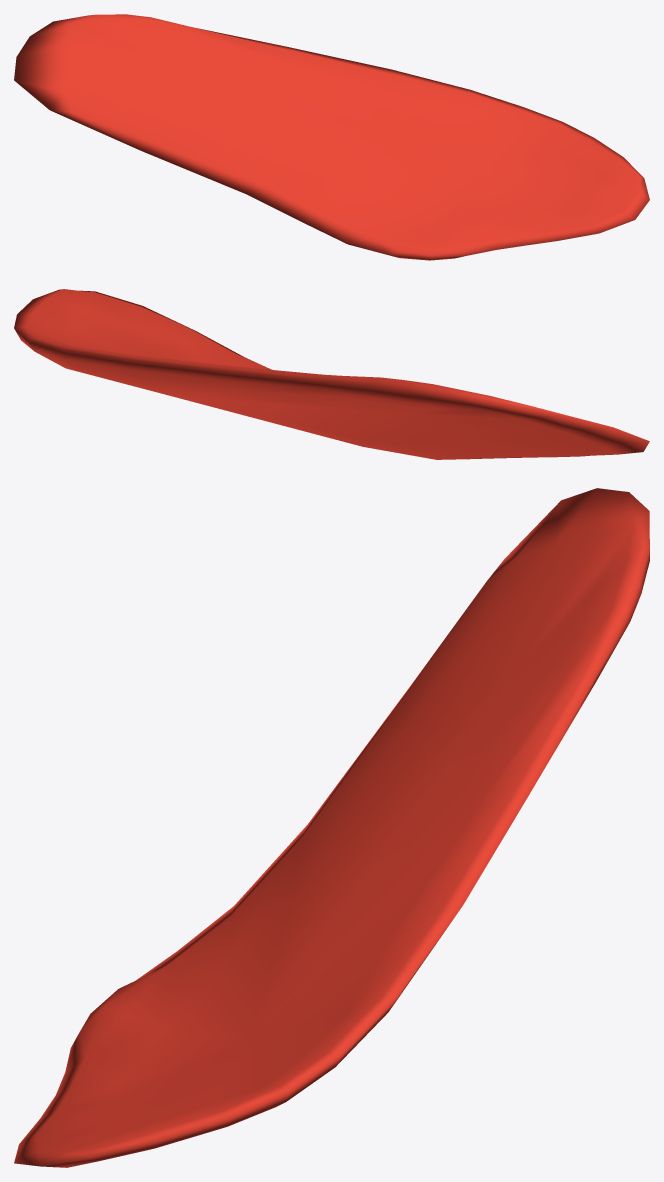
The model's file is Rectus_posterior_minor_capitis_muscle-Occipital_insertion.l_Gen.glb.
3 renders of one model, top to bottom at view 1: azimuth 30°, elevation 25°; view 2: azimuth 150°, elevation 25°; view 3: azimuth 270°, elevation 25°, orthographic. The views are drawn at different scales.
Visible parts, largest first — view 1: Rectus_posterior_minor_capitis_muscle-Occipital_insertion.l_; view 2: Rectus_posterior_minor_capitis_muscle-Occipital_insertion.l_; view 3: Rectus_posterior_minor_capitis_muscle-Occipital_insertion.l_.
Part boxes in pixels (box(x1,y1,x2,y2)): Rectus_posterior_minor_capitis_muscle-Occipital_insertion.l_: box(14, 14, 649, 260); Rectus_posterior_minor_capitis_muscle-Occipital_insertion.l_: box(14, 289, 649, 459); Rectus_posterior_minor_capitis_muscle-Occipital_insertion.l_: box(14, 488, 649, 1167).
Bounding box in the file's own units: 0.0201 × 0.00694 × 0.0124.
